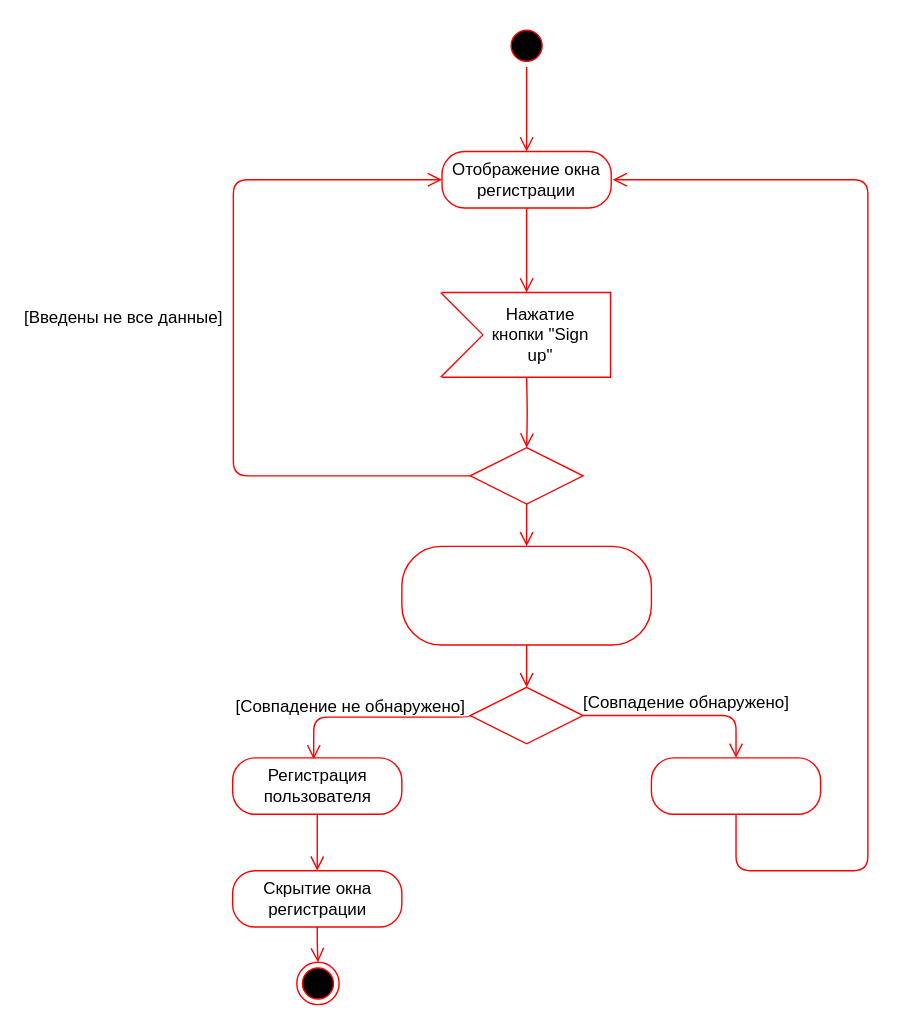
This 907x1029 diagram has some shape labels left out. Each missing label, with the centre of its shape:
Проверка на совпадение с данными зарегистрированного пользователя: point (525, 595)
Сообщение об ошибке: point (735, 785)
